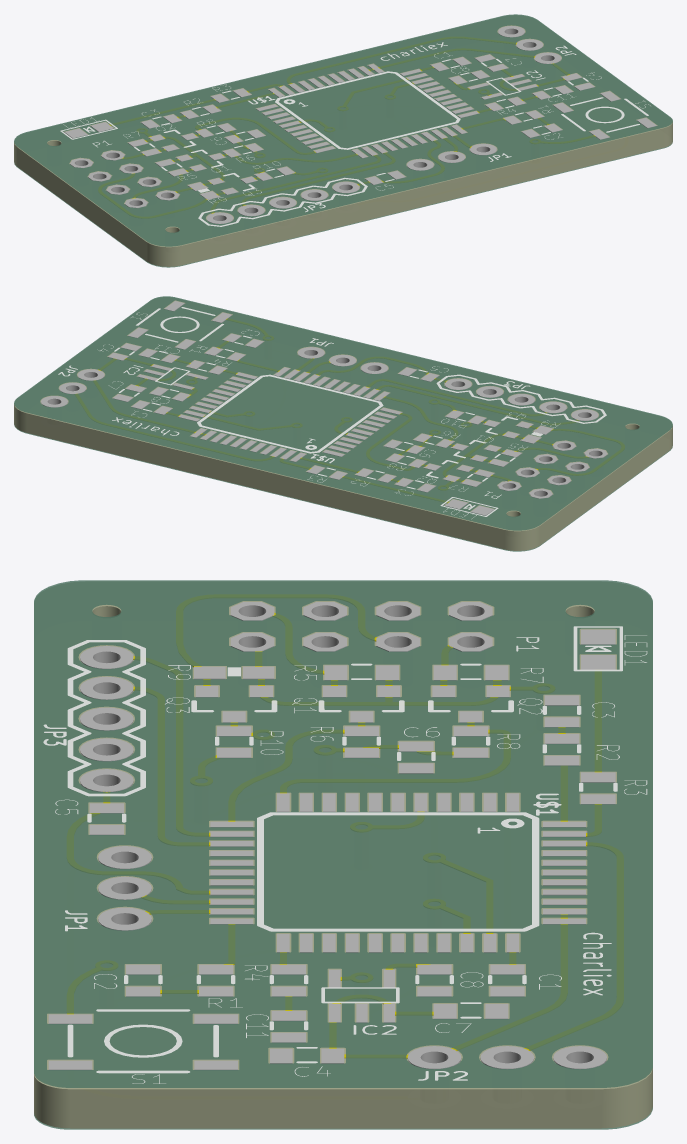
Rendered from layerone-2015-dual-electronic-badges-attendee-speaker-staff.glb.
The picture shows the model from 3 angles, top to bottom: view 1: azimuth 30°, elevation 25°; view 2: azimuth 150°, elevation 25°; view 3: azimuth 270°, elevation 25°; orthographic projection. The views are drawn at different scales.
Parts seen in each view (by area): view 1: =>[0:1:1:9], =>[0:1:1:7], =>[0:1:1:2], =>[0:1:1:5]; view 2: =>[0:1:1:9], =>[0:1:1:7], =>[0:1:1:2], =>[0:1:1:5]; view 3: =>[0:1:1:7], =>[0:1:1:9], =>[0:1:1:2], =>[0:1:1:5].
Boxes of the visible parts, <box> form: =>[0:1:1:9]: <box>14,15,672,266</box>; =>[0:1:1:7]: <box>14,14,672,267</box>; =>[0:1:1:2]: <box>64,26,656,223</box>; =>[0:1:1:5]: <box>60,42,650,226</box>; =>[0:1:1:9]: <box>14,297,672,550</box>; =>[0:1:1:7]: <box>14,296,672,551</box>; =>[0:1:1:2]: <box>41,301,624,515</box>; =>[0:1:1:5]: <box>58,307,606,519</box>; =>[0:1:1:7]: <box>34,580,652,1129</box>; =>[0:1:1:9]: <box>34,582,652,1128</box>; =>[0:1:1:2]: <box>48,595,623,1069</box>; =>[0:1:1:5]: <box>43,626,647,1083</box>.
Size of the model in its own units: 0.0419 by 0.00166 by 0.0216.
4 materials, 4 textured.
